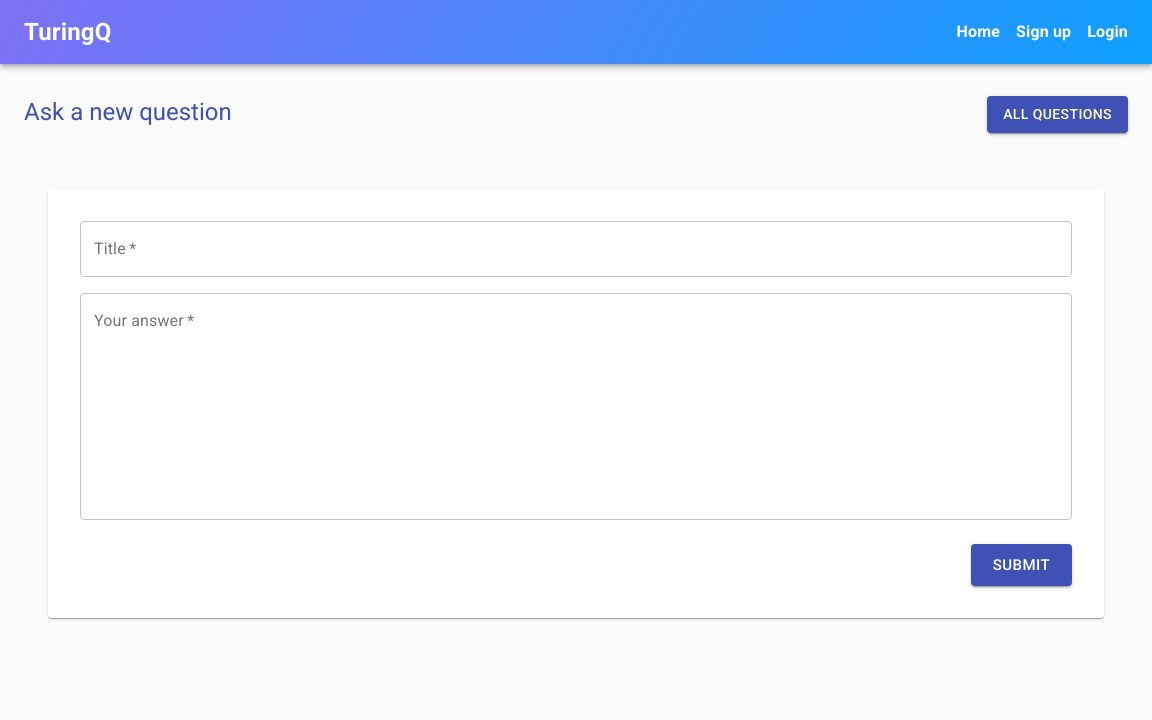
Create and load questions › Not should create new question
Step 1. Type "New quest" into the field with id "title" → (576, 249), box [80,221,1072,277]
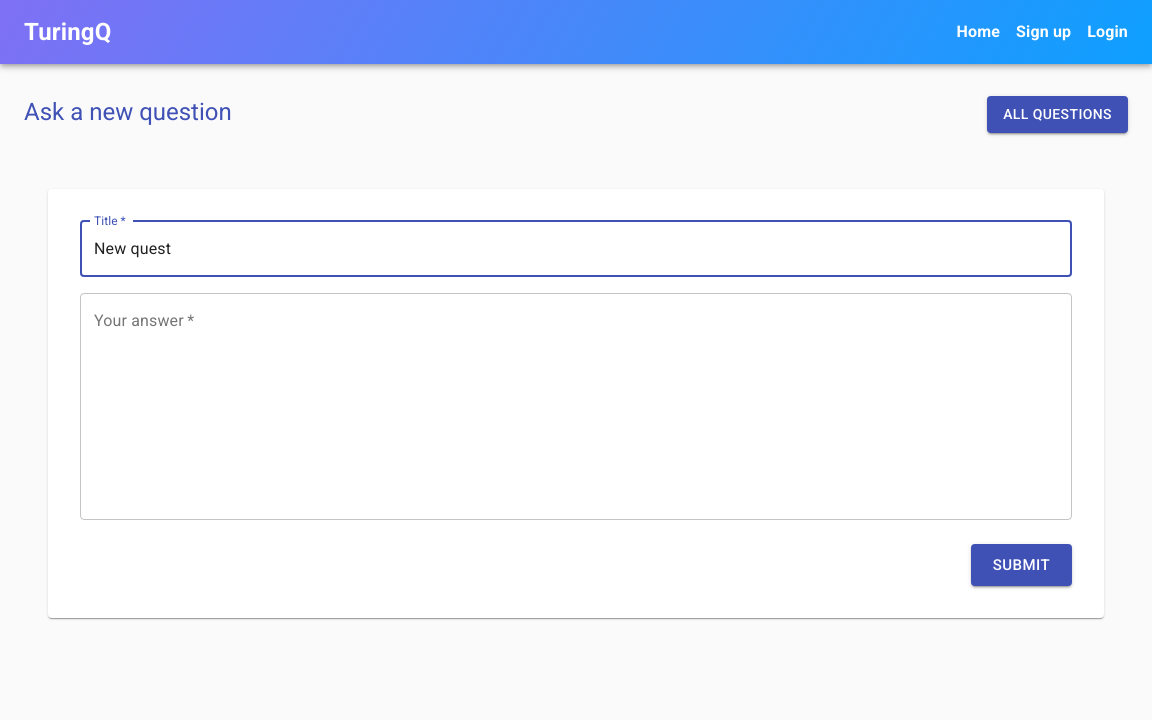
Step 2. Type "New question test 1" into the text box with id "body" → (576, 406), box [94,311,1058,501]
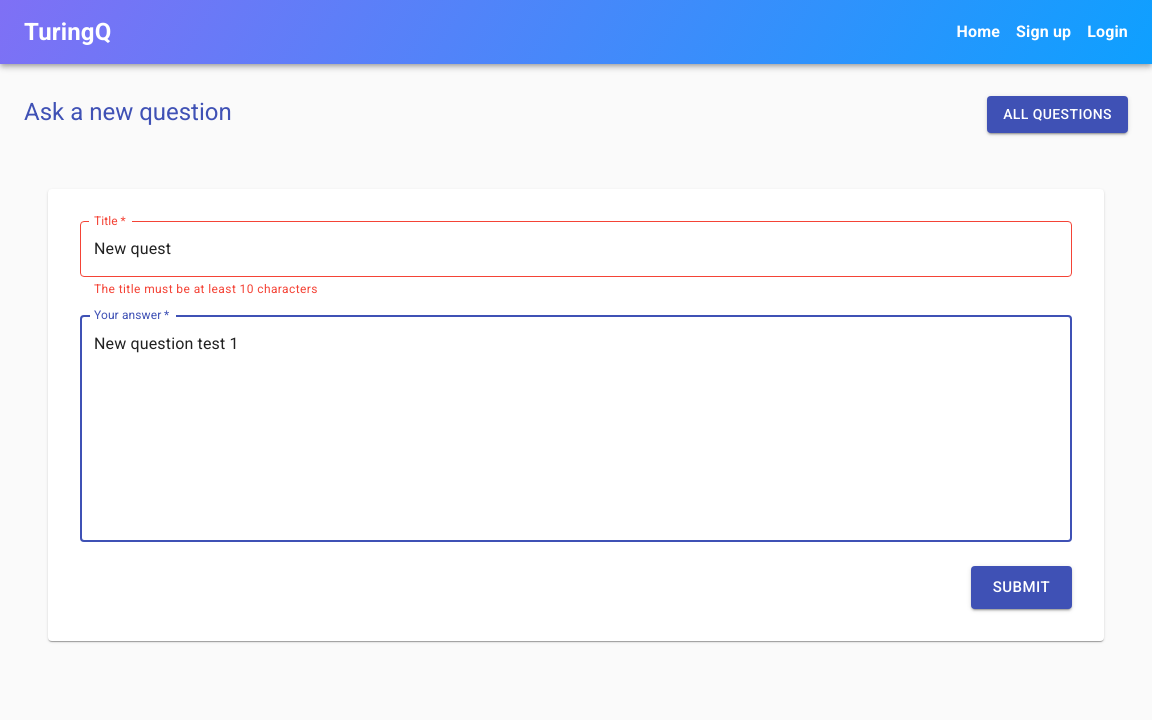
Step 3. Submit the form, box [80,221,1072,609]
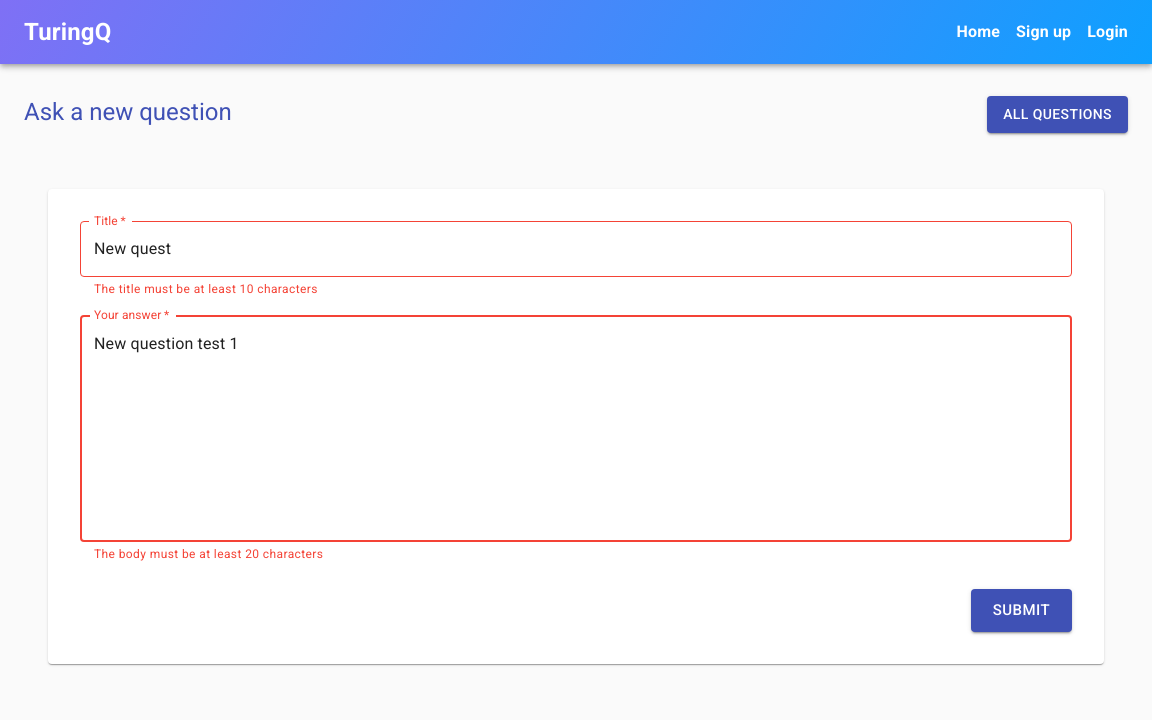
Expected: the text "The title must be at least 10 characters" is shown, [94,282,318,296]
Expected: the text "The body must be at least 20 characters" is shown, [94,547,323,561]
